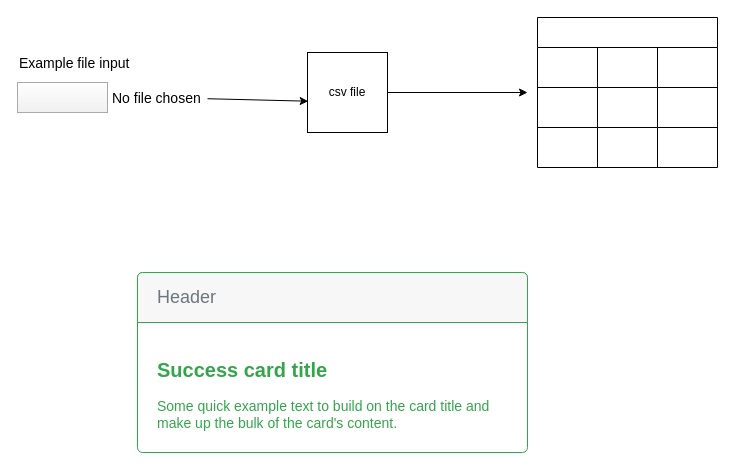
The diagram is 735 pixels wide and 470 high, and some of its shapes have lost their labels. Here are the shapes that lost their labels. From the top down, the box of each, then its label:
(16, 82, 108, 112): Choose File
(536, 16, 718, 168): Proxy Table
